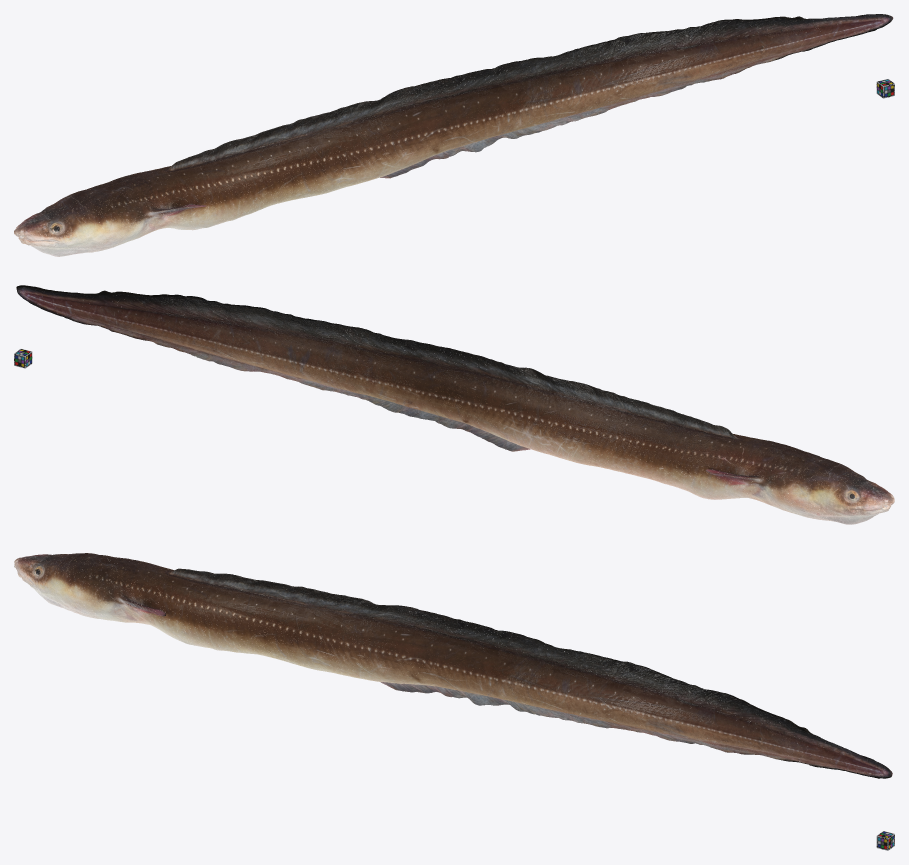
File: anago.glb
The picture shows the model from 3 angles, top to bottom: view 1: azimuth 30°, elevation 25°; view 2: azimuth 150°, elevation 25°; view 3: azimuth 330°, elevation 25°; orthographic projection.
Parts seen in each view (by area): view 1: Q11588-1all-1_5; view 2: Q11588-1all-1_5; view 3: Q11588-1all-1_5.
Boxes of the visible parts, left/top/right/bottom form: Q11588-1all-1_5: left=14, top=14, right=893, bottom=256; Q11588-1all-1_5: left=16, top=285, right=894, bottom=524; Q11588-1all-1_5: left=14, top=553, right=892, bottom=778.
Size of the model in its own units: 26.64 by 3.55 by 2.42.
Materials: 3 (3 with a texture image).
